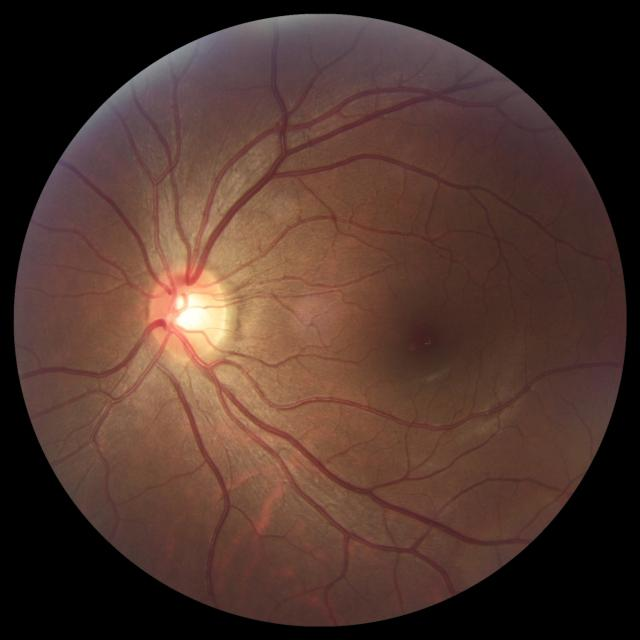OC: (170, 288, 208, 334)
OD: (147, 263, 229, 365)
